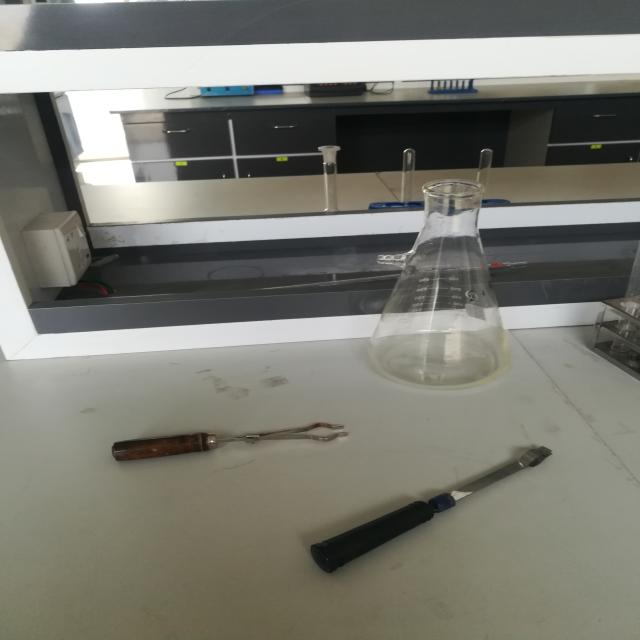Conical_Flask: (338, 157, 537, 396)
TestTube_Holder: (254, 420, 614, 594), (100, 402, 404, 492)
